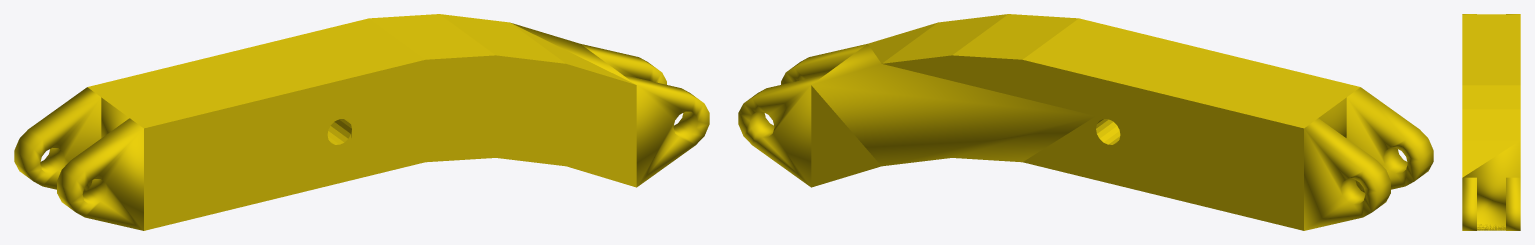
The model's file is rocker_link.dae.
3 renders of one model, left to right at view 1: azimuth 30°, elevation 25°; view 2: azimuth 150°, elevation 25°; view 3: azimuth 270°, elevation 25°, orthographic. The views are drawn at different scales.
Visible parts, largest first — view 1: rocker_link_rod; view 2: rocker_link_rod; view 3: rocker_link_rod.
Boxes of the visible parts, left/top/right/bottom form: rocker_link_rod: left=14, top=14, right=709, bottom=230; rocker_link_rod: left=738, top=14, right=1433, bottom=230; rocker_link_rod: left=1462, top=14, right=1520, bottom=230.
Size of the model in its own units: 1.3 by 0.2 by 0.35.
